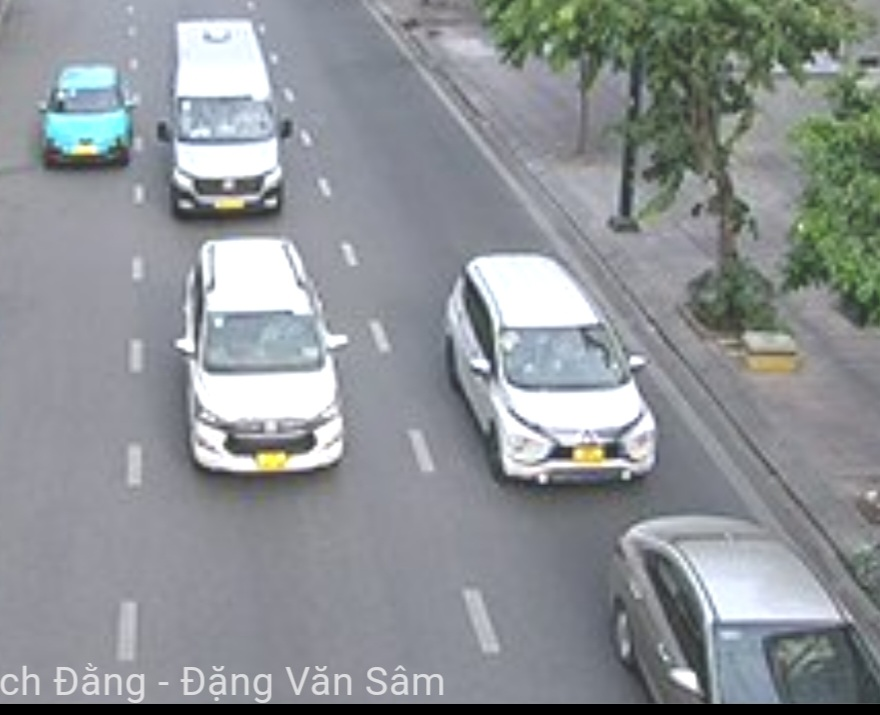car: (604, 508, 877, 702), (444, 250, 659, 492), (177, 237, 348, 474), (168, 23, 282, 214), (41, 61, 133, 170)
